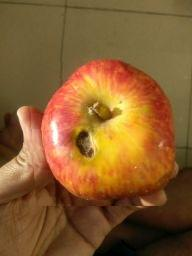Apple Semirotten: (27, 53, 183, 206)
